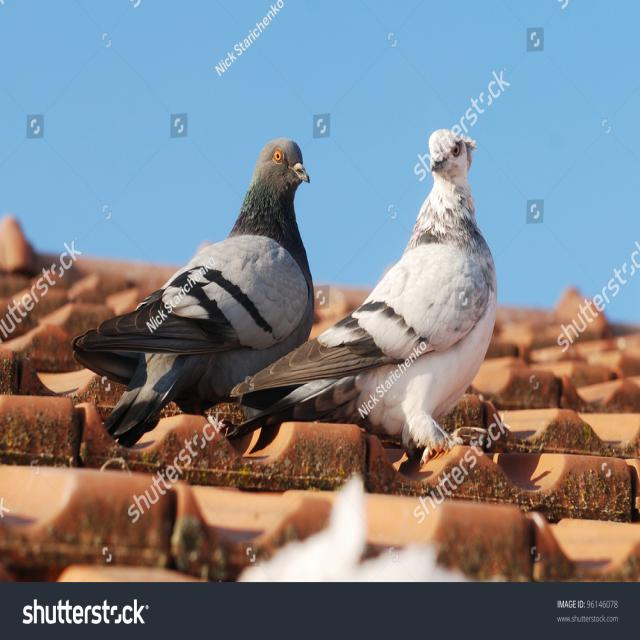bird: (212, 128, 501, 474), (70, 136, 319, 452)
